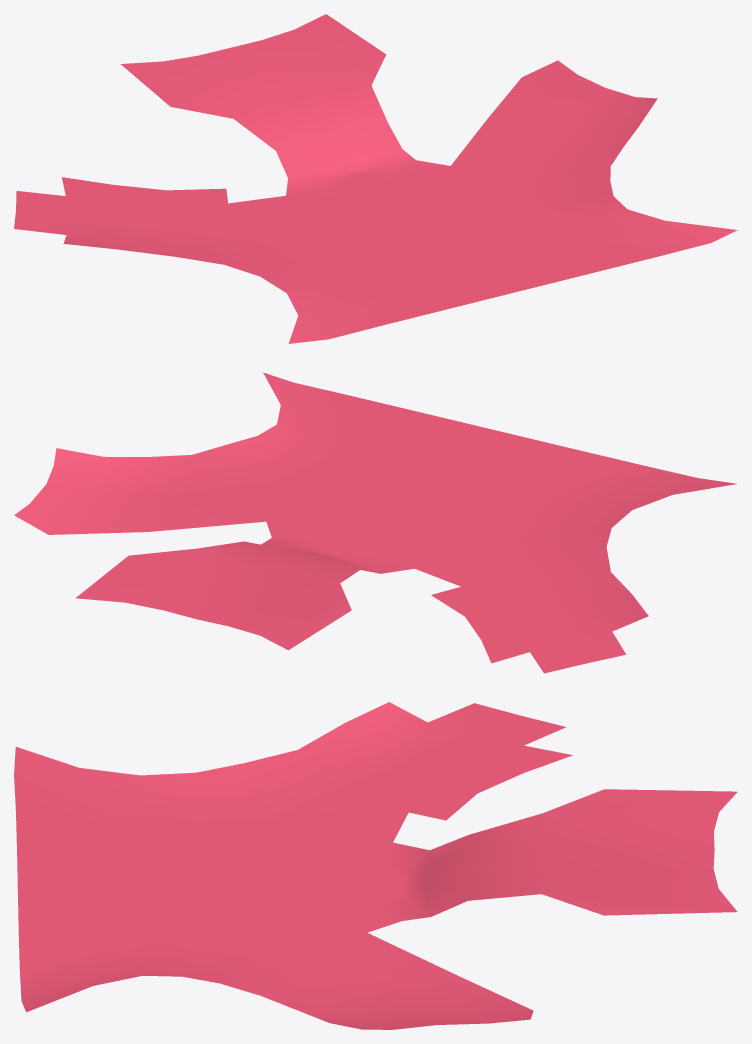
File: NavMesh.FBX
The picture shows the model from 3 angles, top to bottom: view 1: azimuth 30°, elevation 25°; view 2: azimuth 150°, elevation 25°; view 3: azimuth 270°, elevation 25°; orthographic projection. The views are drawn at different scales.
Parts seen in each view (by area): view 1: Object001; view 2: Object001; view 3: Object001.
Part boxes in pixels (<box>): Object001: <box>14,14,737,343</box>; Object001: <box>14,372,736,673</box>; Object001: <box>14,702,737,1029</box>.
Bounding box in the file's own units: 5186 × 4540 × 264.
